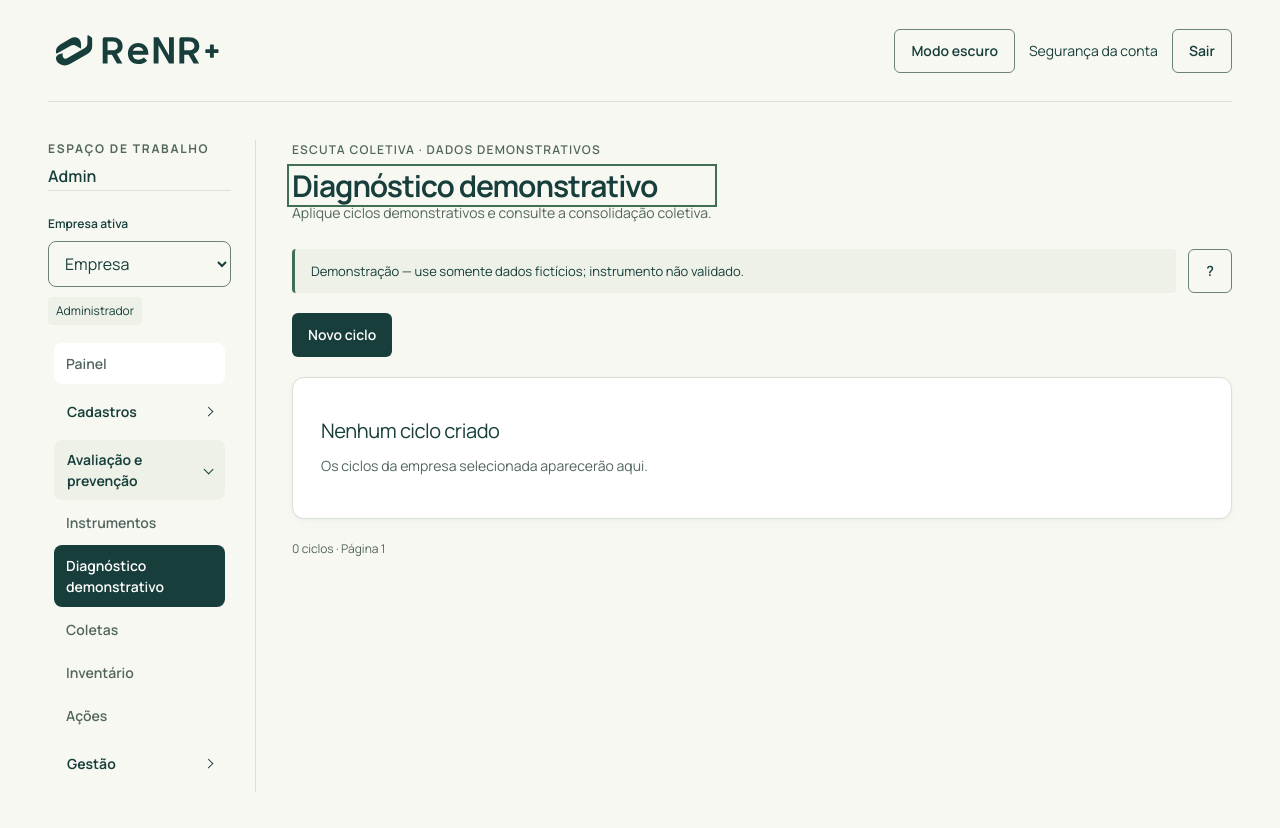
não envia seleção invisível ao paginar com Mais unidades
Click the button "Novo ciclo" at [342, 335], box x1=292 y1=313 x2=392 y2=357
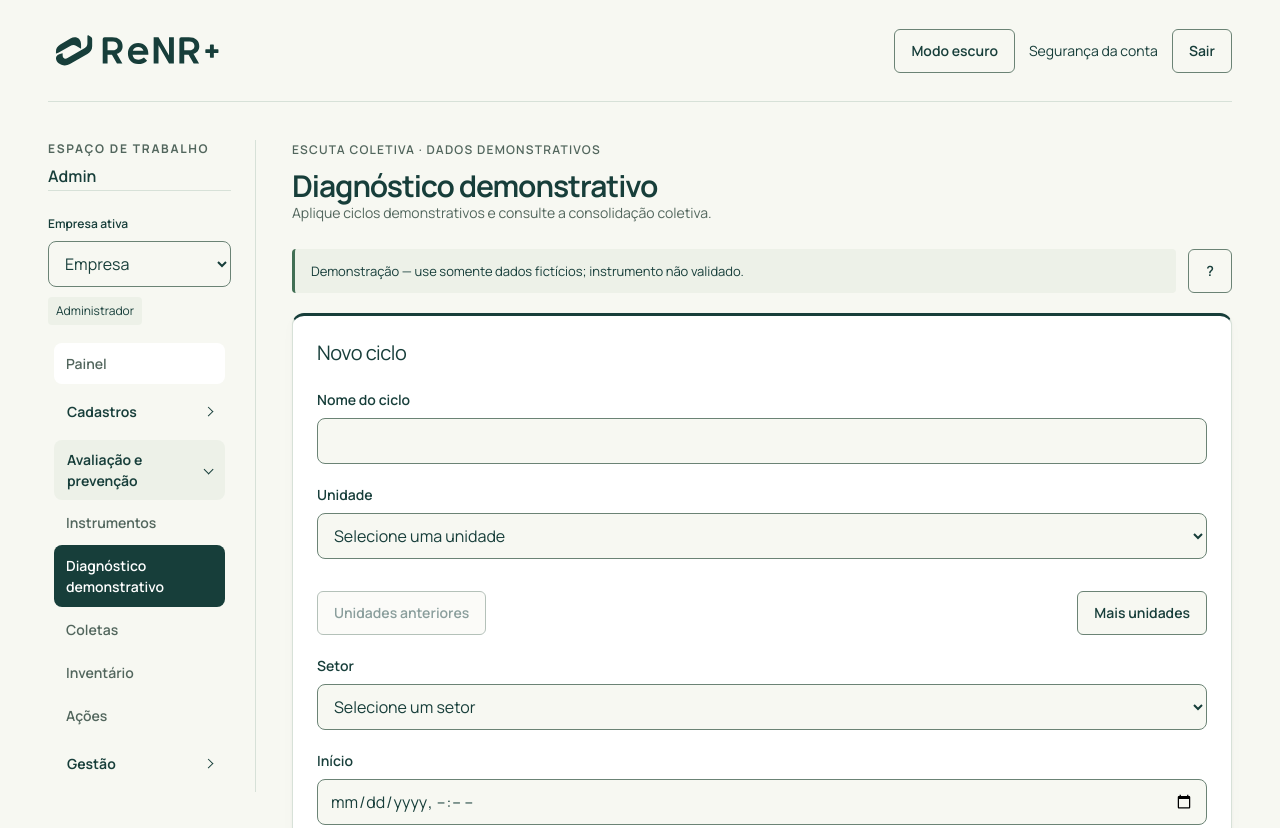
Type "Ciclo paginado" into the field labelled "Nome do ciclo" at [762, 441], box x1=317 y1=418 x2=1207 y2=464
Select "Recife" in the dropdown labelled "Unidade" at [762, 536], box x1=317 y1=513 x2=1207 y2=559
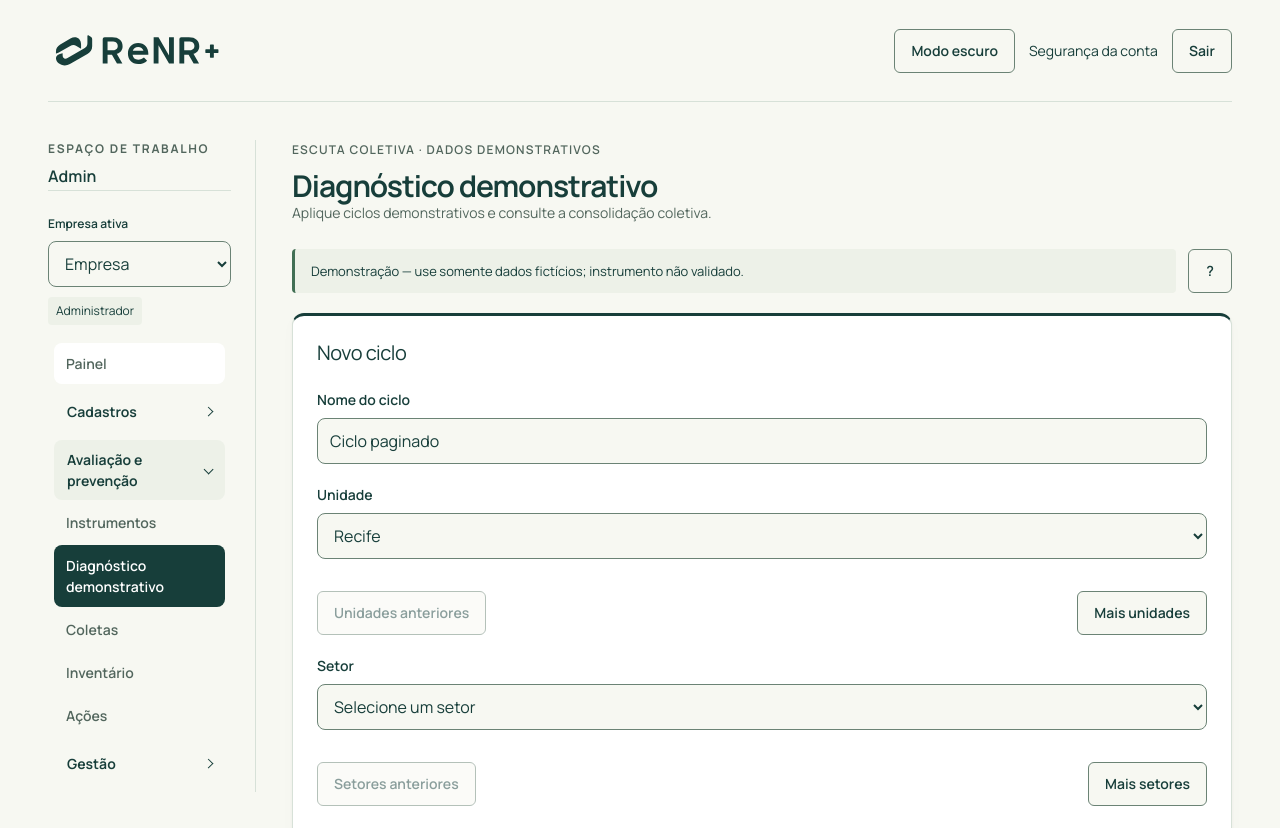
Select "Equipe" in the dropdown labelled "Setor" at [762, 707], box x1=317 y1=684 x2=1207 y2=730
(page scrolled)
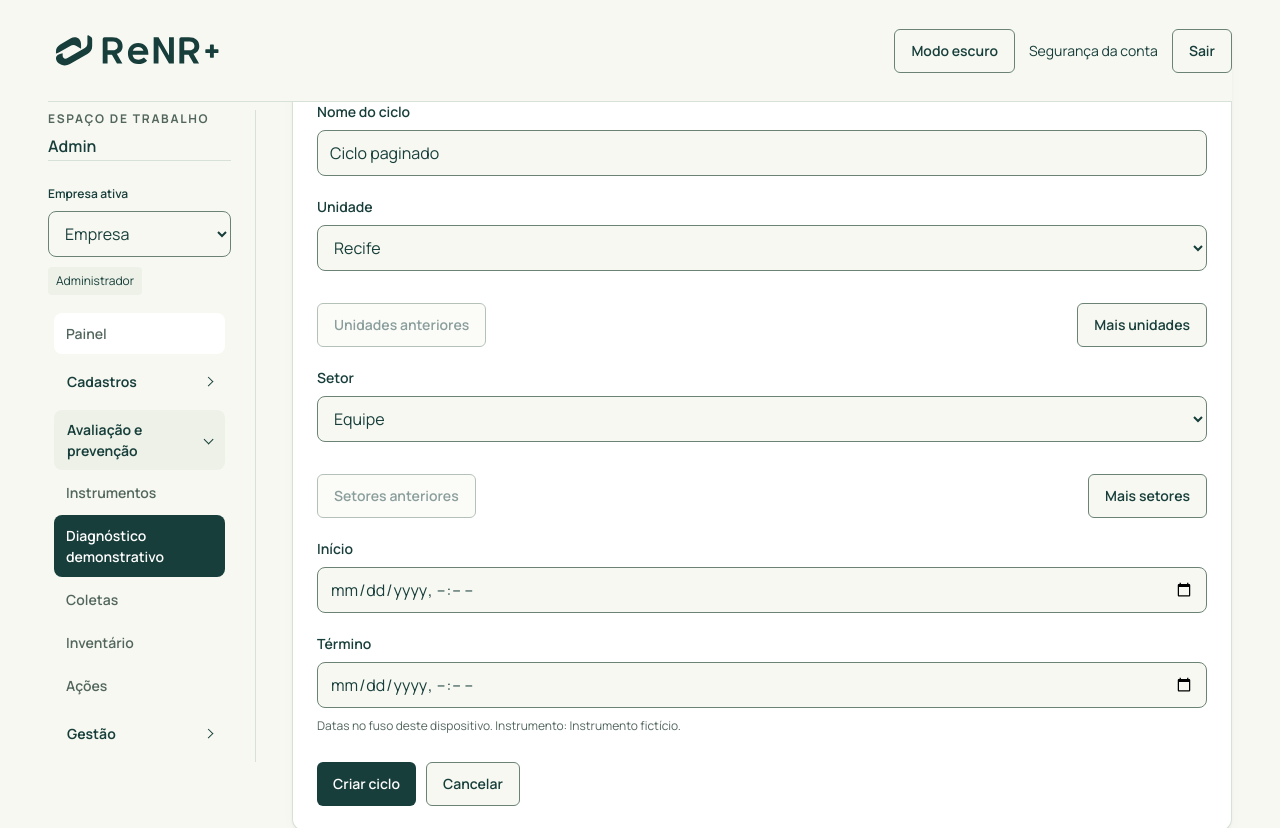
Type "2026-10-12T10:00" into the field labelled "Início" at [762, 590], box x1=317 y1=567 x2=1207 y2=613
Type "2099-10-12T10:00" into the field labelled "Término" at [762, 685], box x1=317 y1=662 x2=1207 y2=708
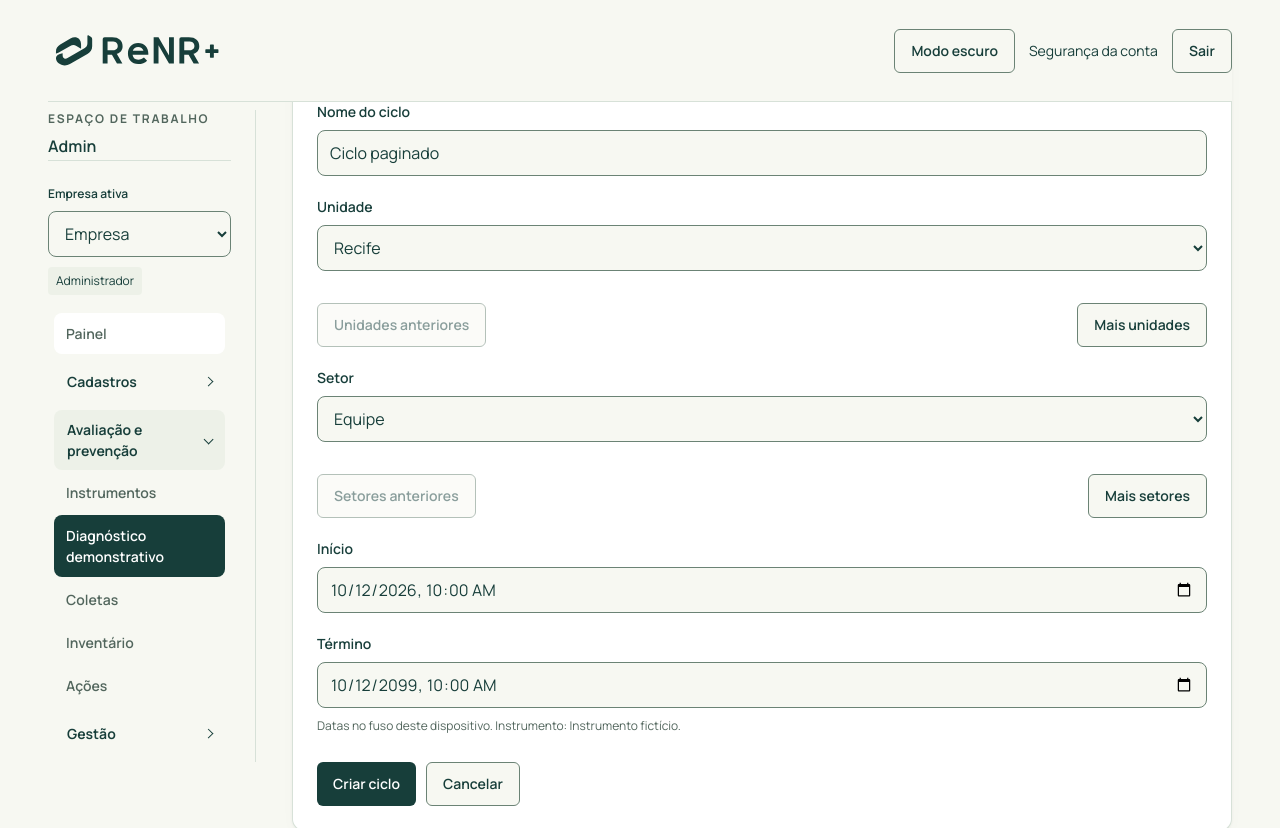
Click the button "Mais unidades" at [1142, 325], box x1=1077 y1=303 x2=1207 y2=347
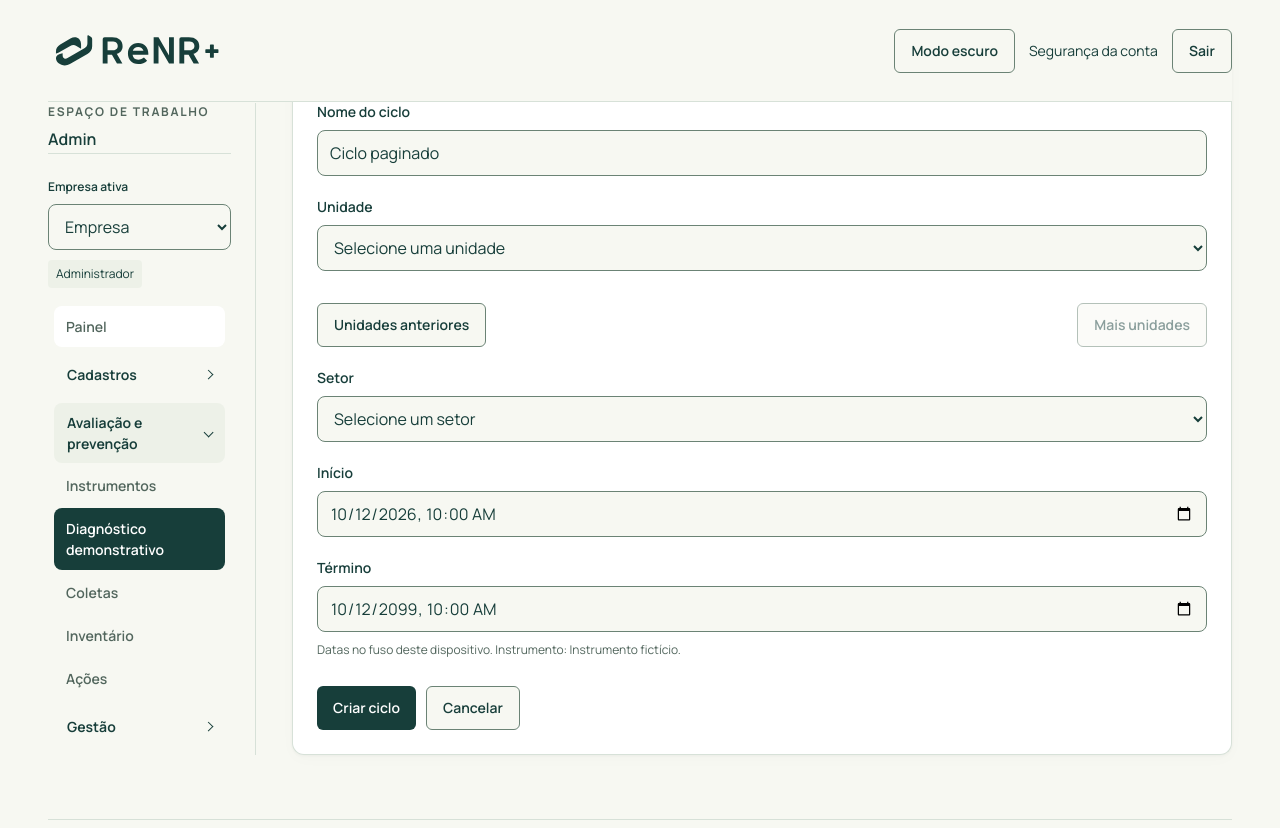
Submit the form named "Criar ciclo", box x1=317 y1=89 x2=1207 y2=730
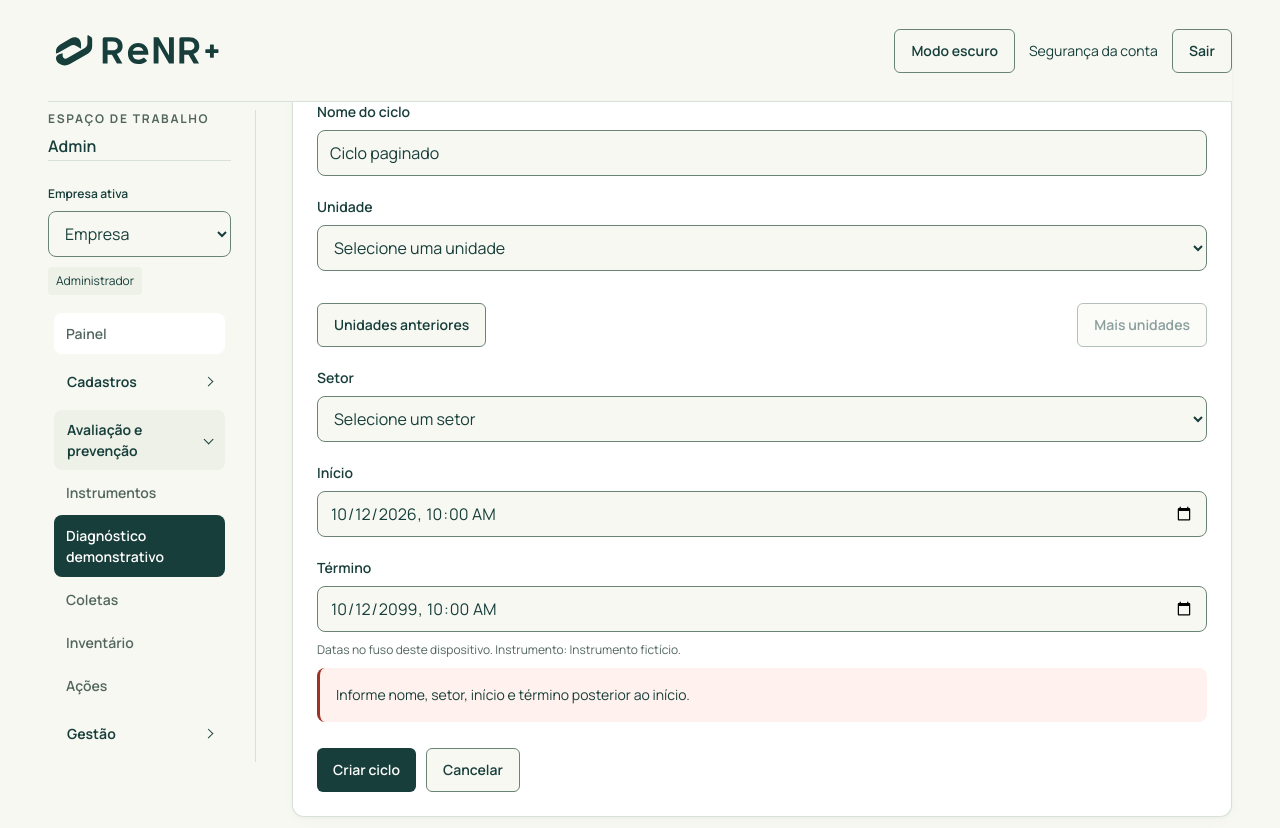
Expected: the message shows "Informe nome, setor", x1=336 y1=685 x2=690 y2=704
